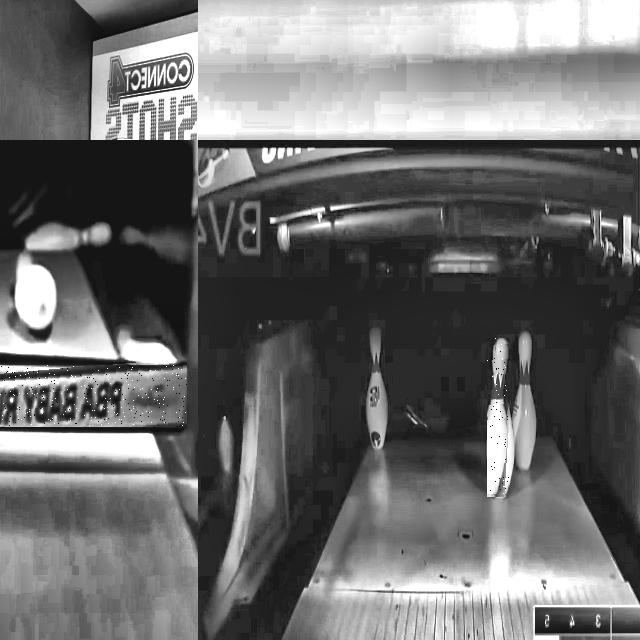bowling-pins: (512, 330, 536, 469), (487, 339, 508, 495), (366, 326, 387, 449)
sweep board: (0, 366, 186, 426)
